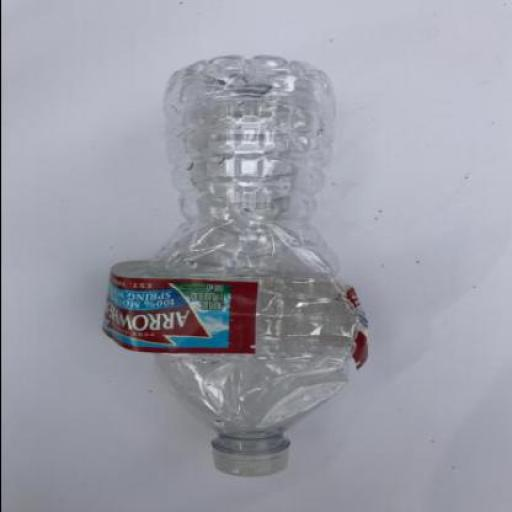plastic: (150, 53, 350, 477), (106, 259, 369, 372), (211, 433, 294, 477)
